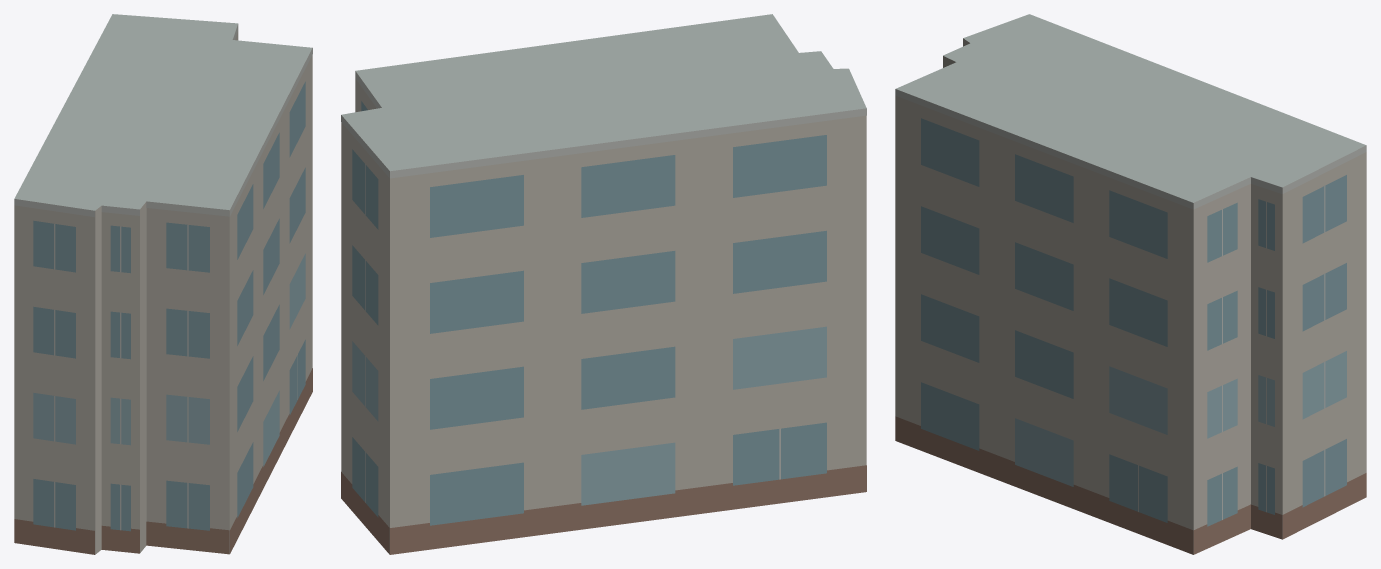
File: survey-upis-32897843.glb
The picture shows the model from 3 angles, left to right: view 1: azimuth 30°, elevation 25°; view 2: azimuth 150°, elevation 25°; view 3: azimuth 270°, elevation 25°; orthographic projection. The views are drawn at different scales.
Parts seen in each view (by area): view 1: survey-upis-32897843.tmp; view 2: survey-upis-32897843.tmp; view 3: survey-upis-32897843.tmp.
Part boxes in pixels (x1,y1,x2,y2): survey-upis-32897843.tmp: (14, 14, 312, 554); survey-upis-32897843.tmp: (341, 14, 866, 554); survey-upis-32897843.tmp: (895, 14, 1366, 554).
Size of the model in its own units: 14.86 by 12.9 by 15.66.
